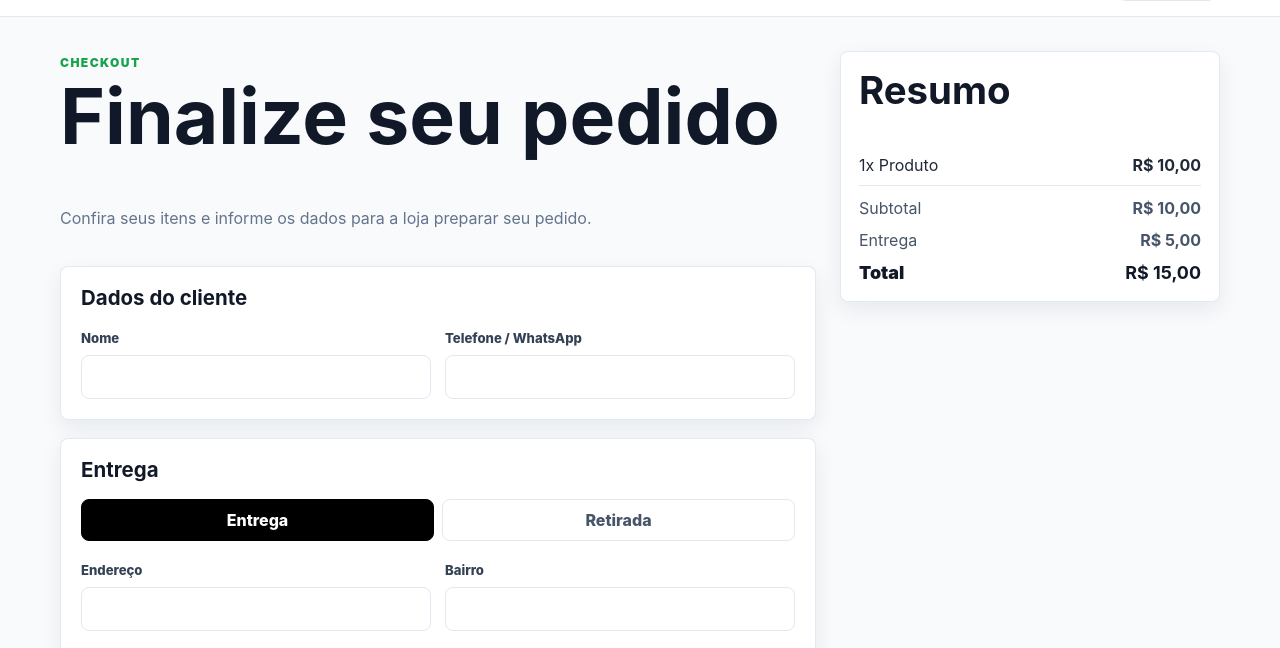
Test: CheckoutPage › mostra erro da RPC sem fallback
Expected: the heading "Finalize seu pedido" is shown, [60,80,816,154]
Type "Cliente Teste" into the field labelled "Nome" at (256, 377), box [81,355,431,399]
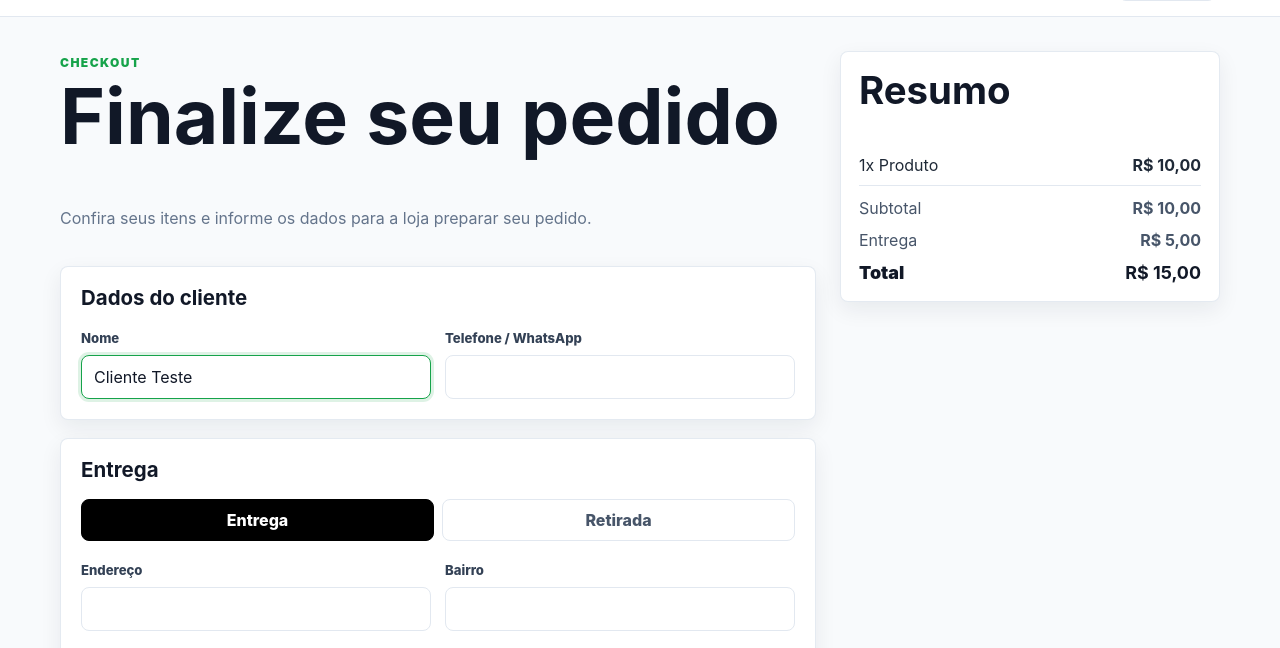
Type "000000000" into the field labelled "Telefone / WhatsApp" at (620, 377), box [445,355,795,399]
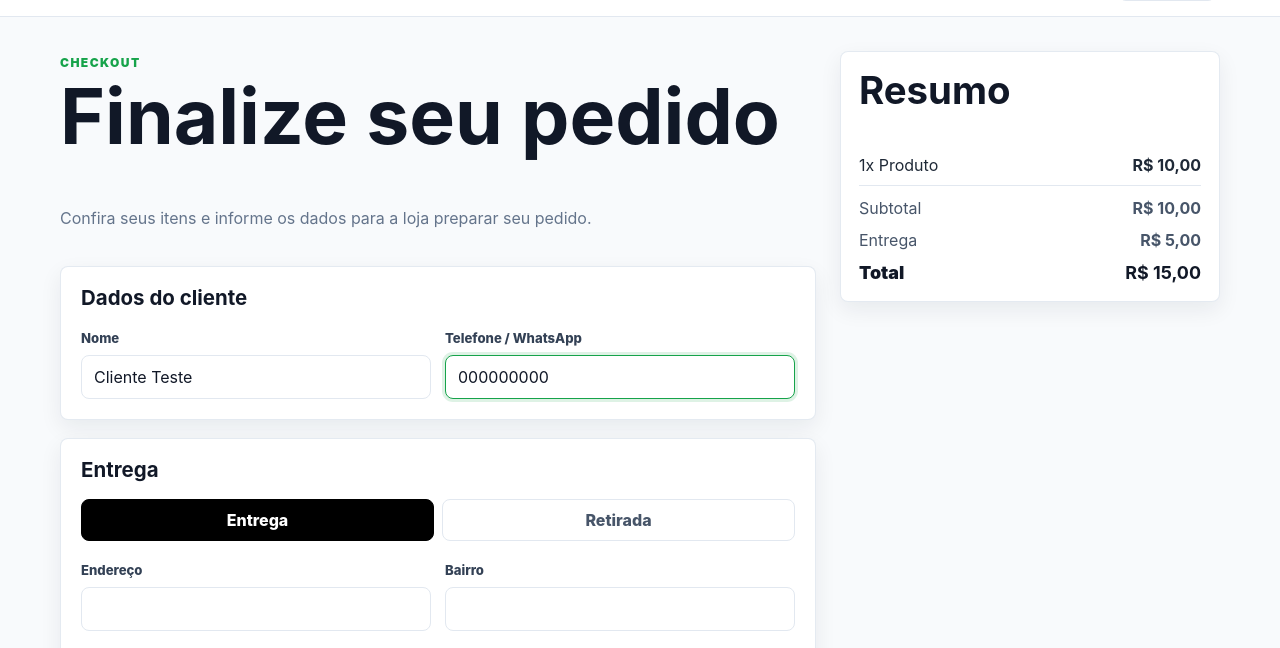
Click the button "Retirada" at (618, 520), box [442,499,795,541]
(page scrolled)
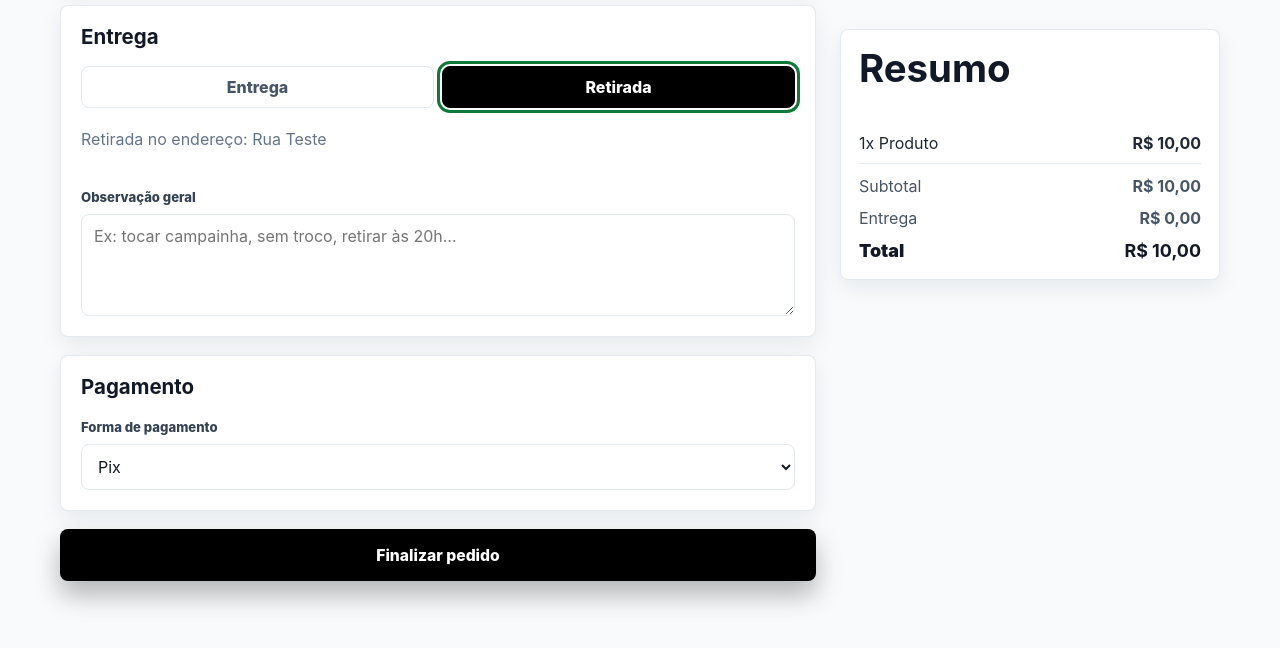
Click the button "Finalizar pedido" at (438, 555), box [60,529,816,581]
(page scrolled)
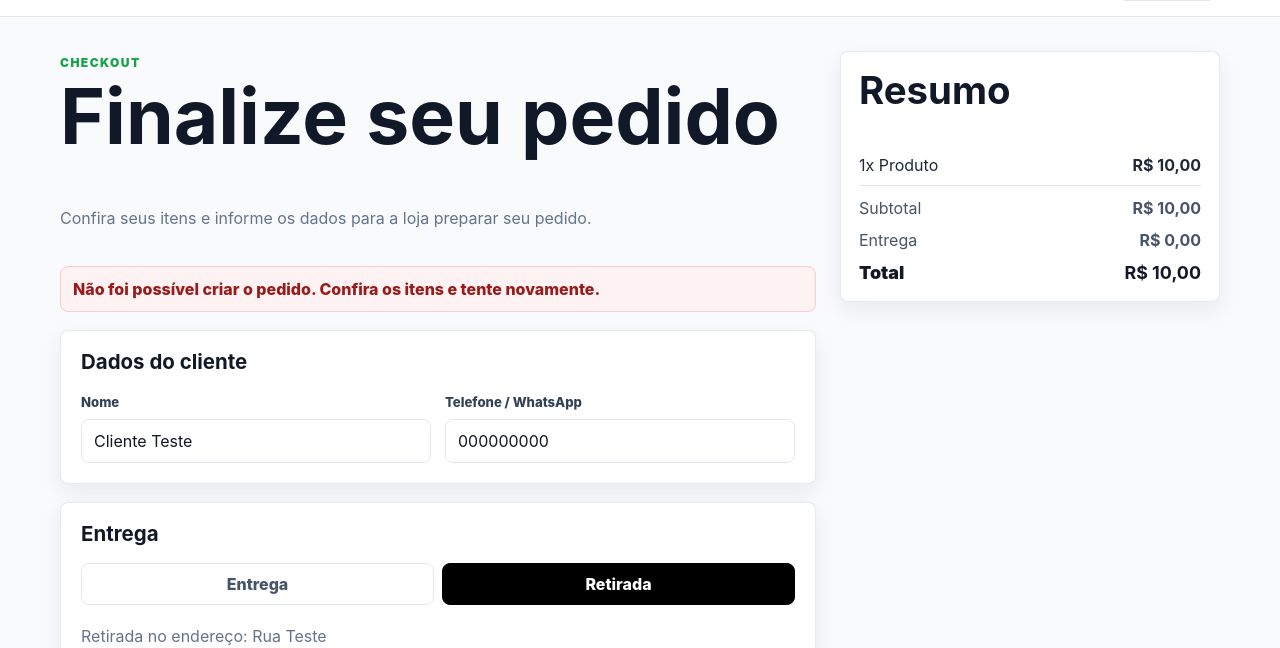
Expected: the text "N.o foi poss.vel criar o pedido" is shown, [73,279,600,299]
